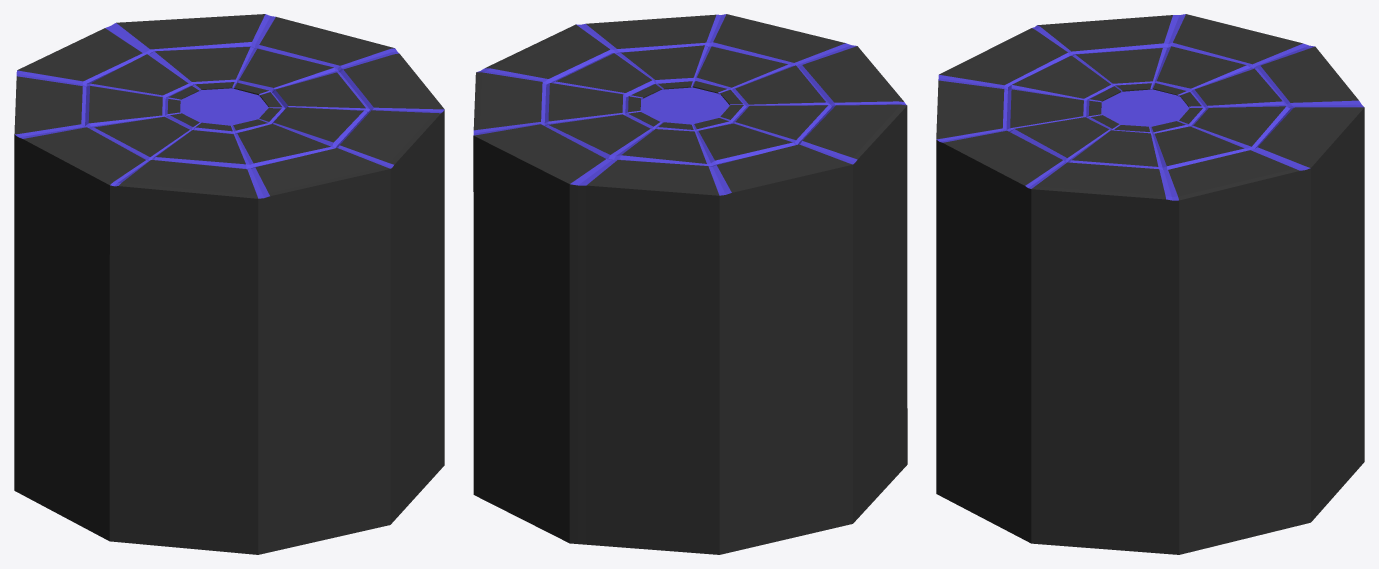
The model's file is portal_001.fbx.
The picture shows the model from 3 angles, left to right: view 1: azimuth 30°, elevation 25°; view 2: azimuth 150°, elevation 25°; view 3: azimuth 270°, elevation 25°; orthographic projection.
Visible parts, largest first — view 1: portal_001; view 2: portal_001; view 3: portal_001.
Part boxes in pixels (bbox=[...]): portal_001: bbox=[14, 14, 444, 554]; portal_001: bbox=[473, 14, 907, 554]; portal_001: bbox=[936, 14, 1364, 554].
Bounding box in the file's own units: 518 × 473 × 511.
